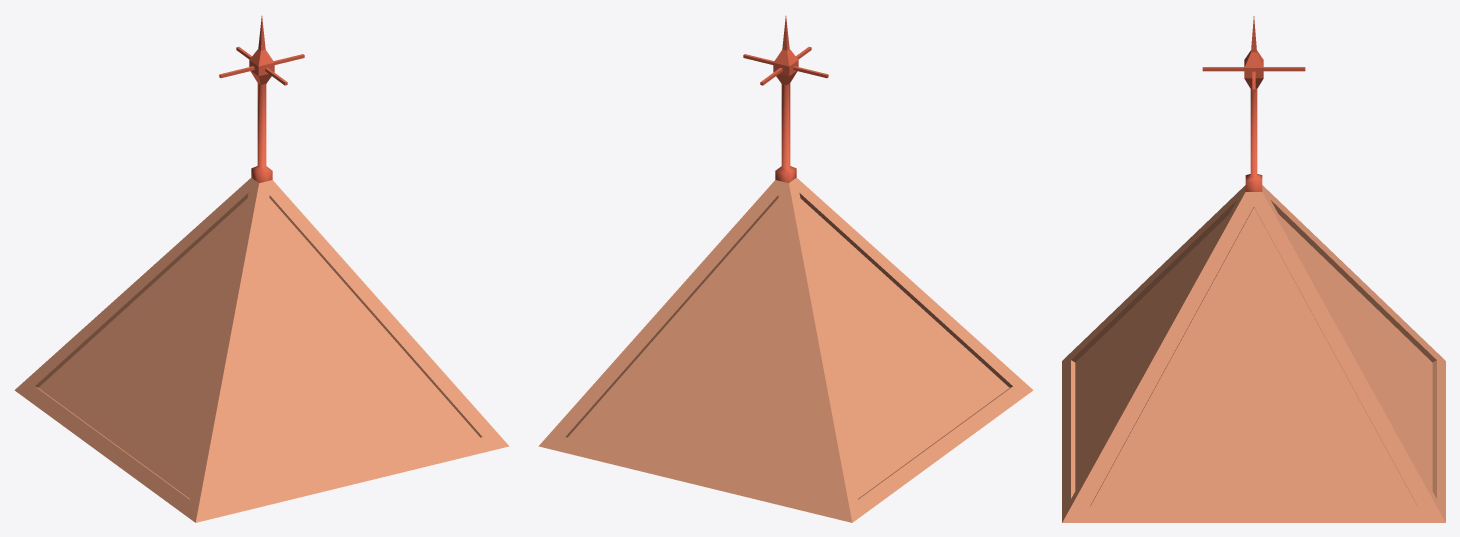
Rendered from TowerFloor6.fbx.
3 renders of one model, left to right at view 1: azimuth 30°, elevation 25°; view 2: azimuth 150°, elevation 25°; view 3: azimuth 270°, elevation 25°, orthographic. The views are drawn at different scales.
Parts seen in each view (by area): view 1: TowerFloor6; view 2: TowerFloor6; view 3: TowerFloor6.
Part boxes in pixels (<box>): TowerFloor6: <box>14,16,509,522</box>; TowerFloor6: <box>538,16,1033,522</box>; TowerFloor6: <box>1062,16,1445,522</box>.
Size of the model in its own units: 5.78 by 7.12 by 5.78.
